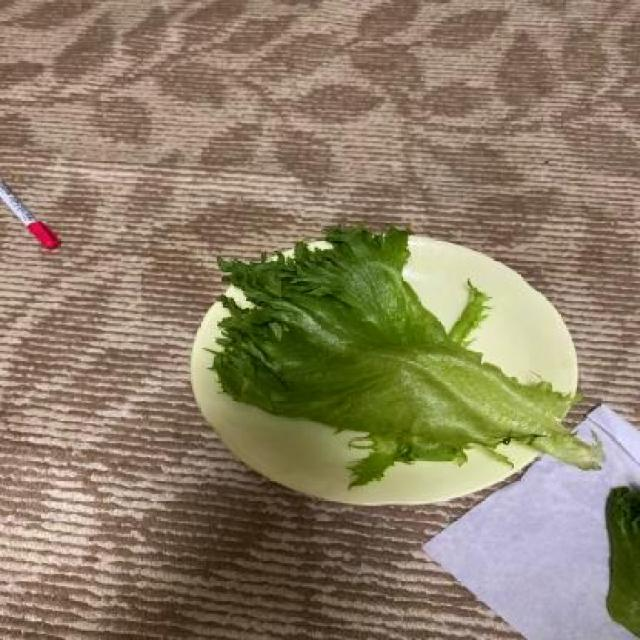Lettuce: (200, 219, 609, 480)
